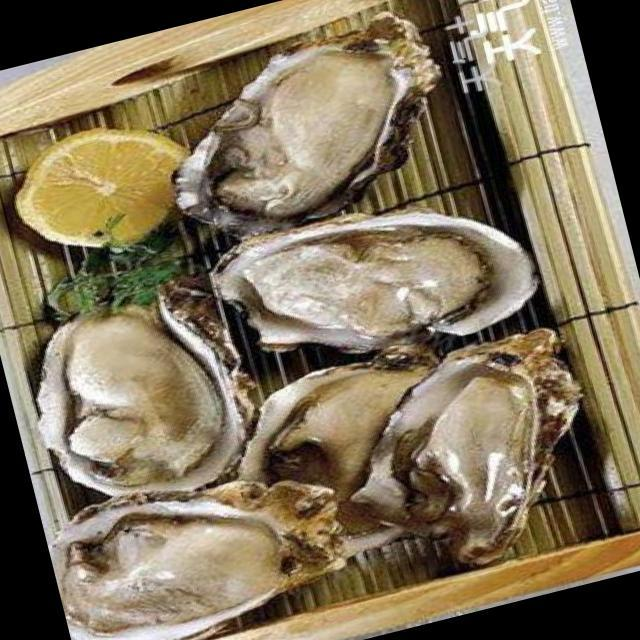Oyster-Open: (162, 0, 452, 250), (337, 302, 593, 572), (22, 253, 269, 518), (44, 451, 379, 639), (199, 199, 549, 367), (221, 329, 456, 572)
